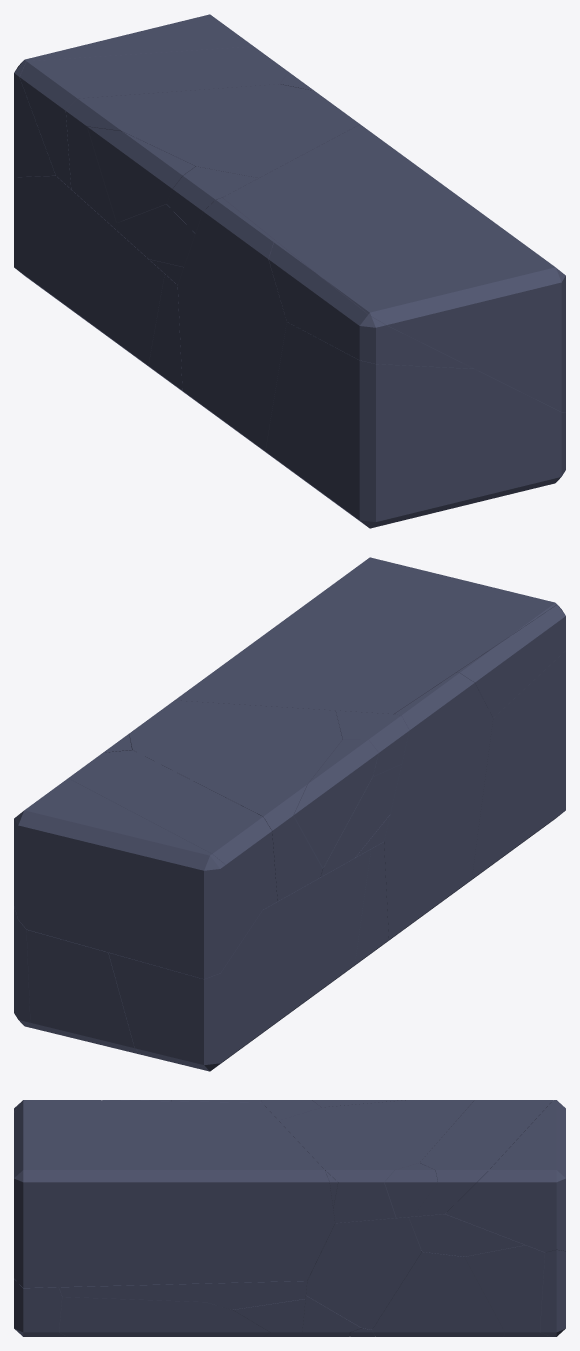
The model's file is DestroyedBeveledStandardBrick.fbx.
3 views of the same model, one above another, from view 1: azimuth 30°, elevation 25°; view 2: azimuth 150°, elevation 25°; view 3: azimuth 270°, elevation 25° (orthographic). The views are drawn at different scales.
Visible parts, largest first — view 1: BeveledStandardBrick.001_cell.002, BeveledStandardBrick.001_cell.005_cell.001, BeveledStandardBrick.001_cell.005_cell.003, BeveledStandardBrick.001_cell.003_cell, BeveledStandardBrick.001_cell.004_cell.006, BeveledStandardBrick.001_cell.003_cell.003, BeveledStandardBrick.001_cell.005_cell.005, BeveledStandardBrick.001_cell, BeveledStandardBrick.001_cell.003_cell.007, BeveledStandardBrick.001_cell.003_cell.006, BeveledStandardBrick.001_cell.003_cell.001, BeveledStandardBrick.001_cell.004_cell.003; view 2: BeveledStandardBrick.001_cell, BeveledStandardBrick.001_cell.002, BeveledStandardBrick.001_cell.004_cell.006, BeveledStandardBrick.001_cell.005_cell.003, BeveledStandardBrick.001_cell.003_cell, BeveledStandardBrick.001_cell.005_cell.001, BeveledStandardBrick.001_cell.003_cell.003, BeveledStandardBrick.001_cell.004_cell.007, BeveledStandardBrick.001_cell.003_cell.007, BeveledStandardBrick.001_cell.005_cell.005, BeveledStandardBrick.001_cell.003_cell.006, BeveledStandardBrick.001_cell.003_cell.001 (+2 smaller); view 3: BeveledStandardBrick.001_cell.002, BeveledStandardBrick.001_cell.003_cell, BeveledStandardBrick.001_cell, BeveledStandardBrick.001_cell.004_cell.002, BeveledStandardBrick.001_cell.004_cell.004, BeveledStandardBrick.001_cell.003_cell.003, BeveledStandardBrick.001_cell.005_cell, BeveledStandardBrick.001_cell.004_cell.007, BeveledStandardBrick.001_cell.004_cell.001, BeveledStandardBrick.001_cell.005_cell.004, BeveledStandardBrick.001_cell.005_cell.001, BeveledStandardBrick.001_cell.001 (+6 smaller).
Part boxes in pixels (box(x1,y1,x2,y2)): BeveledStandardBrick.001_cell.002: box(222, 124, 565, 412); BeveledStandardBrick.001_cell.005_cell.001: box(265, 322, 565, 528); BeveledStandardBrick.001_cell.005_cell.003: box(177, 198, 286, 457); BeveledStandardBrick.001_cell.003_cell: box(66, 84, 359, 227); BeveledStandardBrick.001_cell.004_cell.006: box(14, 175, 164, 369); BeveledStandardBrick.001_cell.003_cell.003: box(19, 46, 288, 188); BeveledStandardBrick.001_cell.005_cell.005: box(268, 241, 473, 368); BeveledStandardBrick.001_cell: box(14, 14, 253, 177); BeveledStandardBrick.001_cell.003_cell.007: box(87, 126, 195, 222); BeveledStandardBrick.001_cell.003_cell.006: box(114, 204, 195, 266); BeveledStandardBrick.001_cell.003_cell.001: box(166, 166, 258, 233); BeveledStandardBrick.001_cell.004_cell.003: box(148, 274, 190, 397); BeveledStandardBrick.001_cell: box(14, 778, 261, 979); BeveledStandardBrick.001_cell.002: box(174, 557, 556, 714); BeveledStandardBrick.001_cell.004_cell.006: box(108, 849, 370, 1071); BeveledStandardBrick.001_cell.005_cell.003: box(382, 672, 493, 945); BeveledStandardBrick.001_cell.003_cell: box(129, 700, 342, 901); BeveledStandardBrick.001_cell.005_cell.001: box(462, 650, 565, 886); BeveledStandardBrick.001_cell.003_cell.003: box(68, 750, 277, 910); BeveledStandardBrick.001_cell.004_cell.007: box(26, 929, 141, 1054); BeveledStandardBrick.001_cell.003_cell.007: box(293, 739, 378, 867); BeveledStandardBrick.001_cell.005_cell.005: box(456, 604, 565, 717); BeveledStandardBrick.001_cell.003_cell.006: box(320, 764, 401, 876); BeveledStandardBrick.001_cell.003_cell.001: box(335, 710, 409, 776); BeveledStandardBrick.001_cell.002: box(14, 1100, 334, 1287); BeveledStandardBrick.001_cell.003_cell: box(279, 1100, 474, 1223); BeveledStandardBrick.001_cell: box(445, 1100, 565, 1252); BeveledStandardBrick.001_cell.004_cell.002: box(306, 1217, 421, 1329); BeveledStandardBrick.001_cell.004_cell.004: box(372, 1250, 504, 1336); BeveledStandardBrick.001_cell.003_cell.003: box(413, 1100, 552, 1216); BeveledStandardBrick.001_cell.005_cell: box(59, 1297, 269, 1336); BeveledStandardBrick.001_cell.004_cell.007: box(464, 1245, 550, 1336); BeveledStandardBrick.001_cell.004_cell.001: box(409, 1212, 524, 1256); BeveledStandardBrick.001_cell.005_cell.004: box(59, 1282, 254, 1301); BeveledStandardBrick.001_cell.005_cell.001: box(14, 1279, 66, 1336); BeveledStandardBrick.001_cell.001: box(540, 1250, 565, 1336).
Size of the model in its own units: 200 by 200 by 600.
